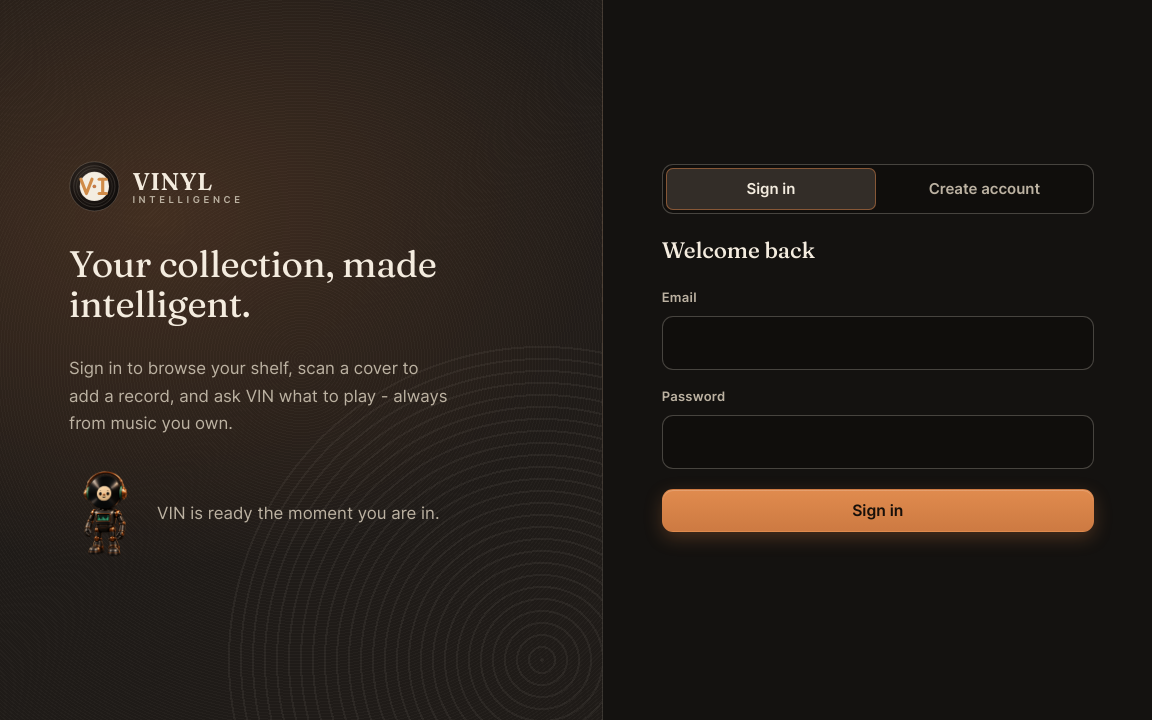
it: auth and profile workflow (routed) › shows the confirmation-pending state after sign-up without a session
Click the tab "Create account" at (984, 189), box [879, 168, 1090, 210]
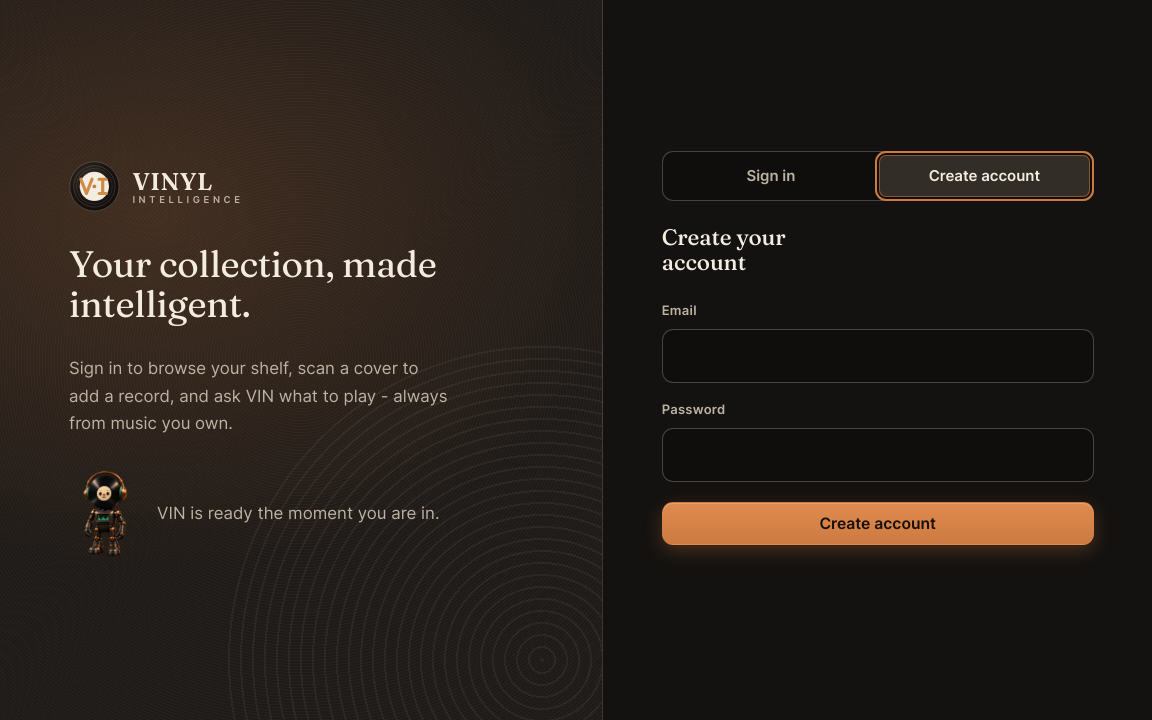
Type "new@example.test" into the field labelled "Email" at (878, 356), box [662, 329, 1094, 383]
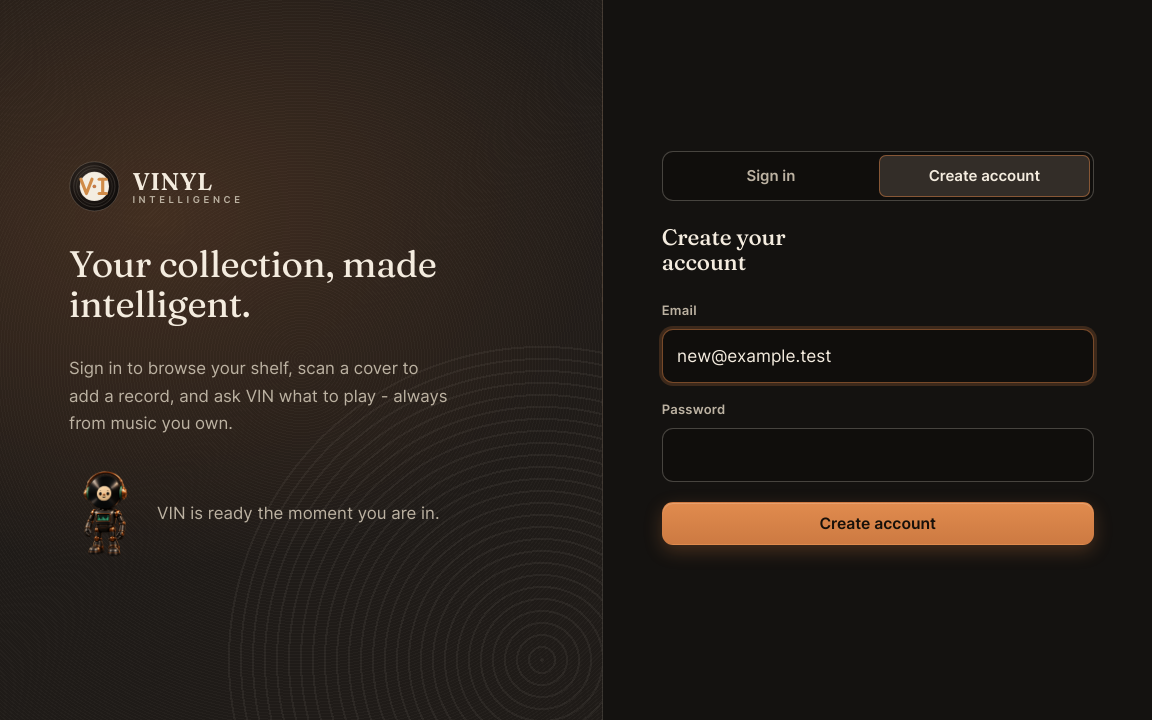
Type "password123" into the password field labelled "Password" at (878, 455), box [662, 428, 1094, 482]
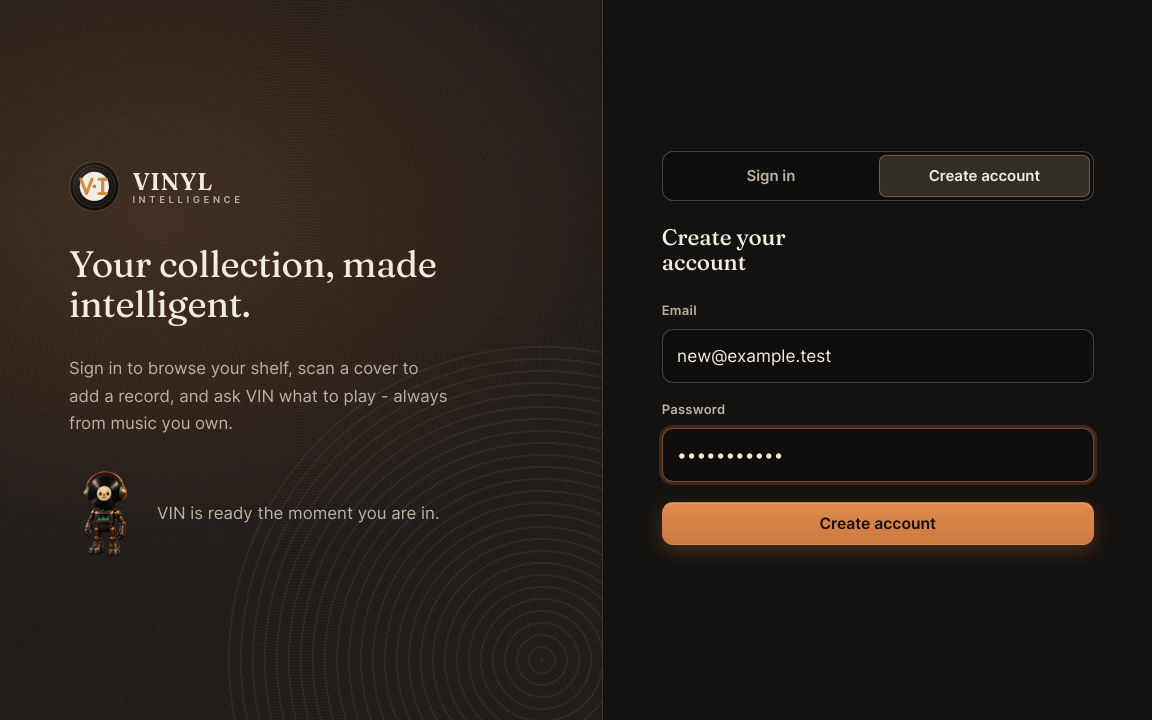
Click the button "Create account" at (878, 523), box [662, 502, 1094, 545]
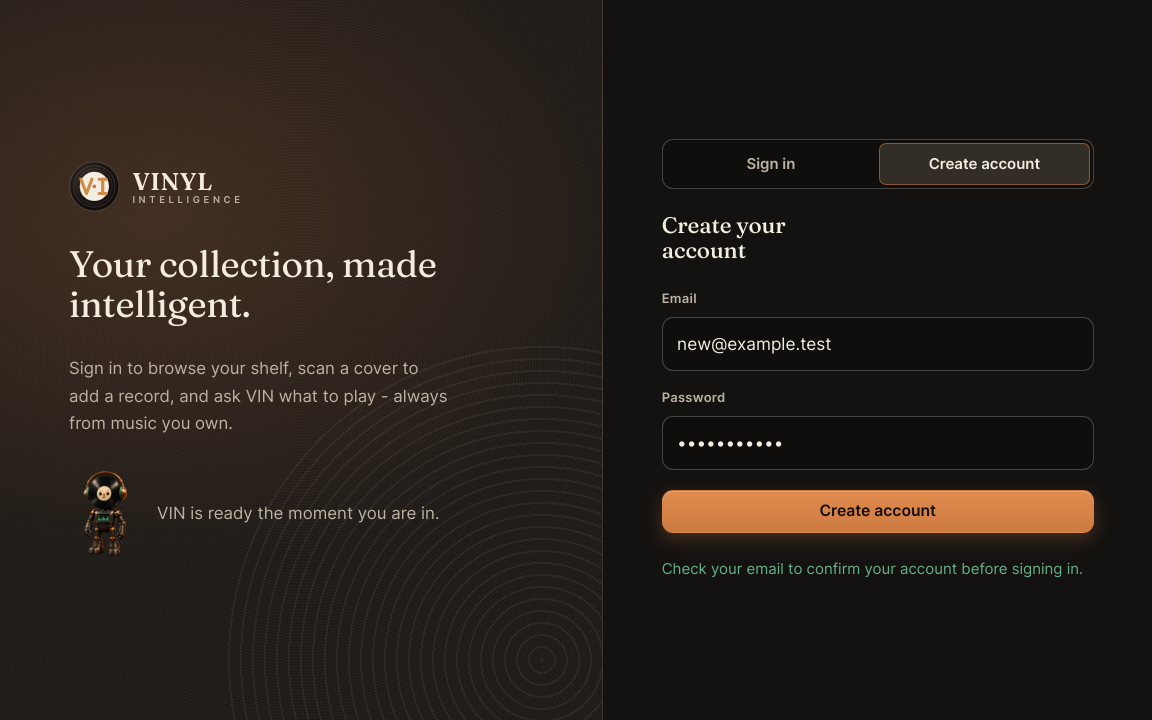
Expected: the text "Check your email to confirm your account before signing in." is shown, [662, 557, 1094, 581]
